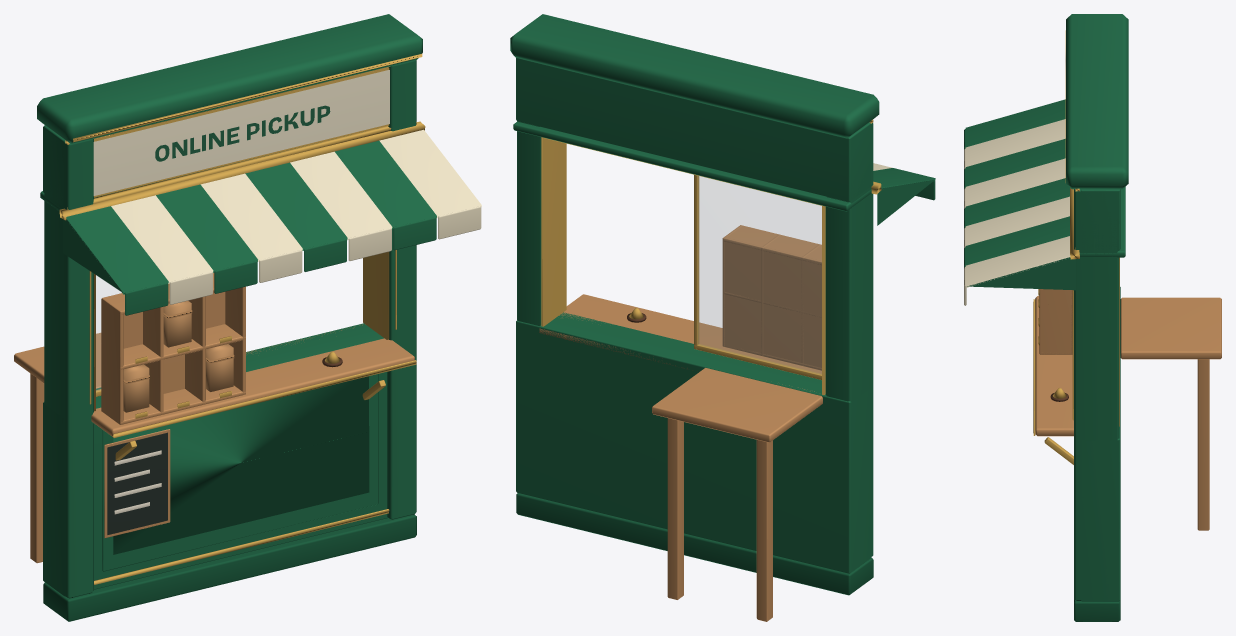
The model's file is pickup_window_tier3.glb.
3 renders of one model, left to right at view 1: azimuth 30°, elevation 25°; view 2: azimuth 150°, elevation 25°; view 3: azimuth 270°, elevation 25°, orthographic. The views are drawn at different scales.
Parts seen in each view (by area): view 1: KickInset, Cap, Pilaster-1, SignPanel, KickWall, Plinth, Pilaster1, Ledge, KickPanel, MenuCard, AwningStripe0, AwningStripe7 (+38 smaller); view 2: KickWall, SignBand, Pane, Cap, Pilaster-1, RackBack, InnerShelf, Plinth, Pilaster1, Bead0.75, Ledge, Header (+8 smaller); view 3: Pilaster1, Cap, KickWall, InnerShelf, Ledge, AwningStripe7, ShelfLeg-0.20, RackSide3, AwningStripe6, AwningStripe5, AwningStripe4, AwningStripe0 (+8 smaller).
Boxes of the visible parts, <box> form: KickInset: <box>113,376,369,554</box>; Cap: <box>37,14,422,143</box>; Pilaster-1: <box>44,129,93,598</box>; SignPanel: <box>93,70,389,195</box>; KickWall: <box>43,323,388,596</box>; Plinth: <box>43,514,416,621</box>; Pilaster1: <box>387,60,416,519</box>; Ledge: <box>91,324,414,436</box>; KickPanel: <box>102,374,378,571</box>; MenuCard: <box>107,432,167,534</box>; AwningStripe0: <box>66,206,168,294</box>; AwningStripe7: <box>379,129,481,218</box>; KickWall: <box>516,312,870,573</box>; SignBand: <box>516,58,870,202</box>; Pane: <box>698,176,821,374</box>; Cap: <box>510,14,879,138</box>; Pilaster-1: <box>825,122,873,557</box>; RackBack: <box>723,237,821,370</box>; InnerShelf: <box>652,368,822,442</box>; Plinth: <box>516,493,873,595</box>; Pilaster1: <box>517,121,541,325</box>; Bead0.75: <box>541,137,566,326</box>; Ledge: <box>539,294,821,391</box>; Header: <box>513,121,871,211</box>; Pilaster1: <box>1074,189,1119,601</box>; Cap: <box>1066,14,1128,189</box>; KickWall: <box>1081,287,1120,601</box>; InnerShelf: <box>1120,297,1221,359</box>; Ledge: <box>1035,296,1073,436</box>; AwningStripe7: <box>965,236,1070,287</box>; ShelfLeg-0.20: <box>1197,359,1209,530</box>; RackSide3: <box>1039,289,1072,354</box>; AwningStripe6: <box>965,216,1069,265</box>; AwningStripe5: <box>965,196,1069,245</box>; AwningStripe4: <box>965,178,1069,225</box>; AwningStripe0: <box>965,99,1065,147</box>.
Bounding box in the file's own units: 1.85 × 2.48 × 1.27.
